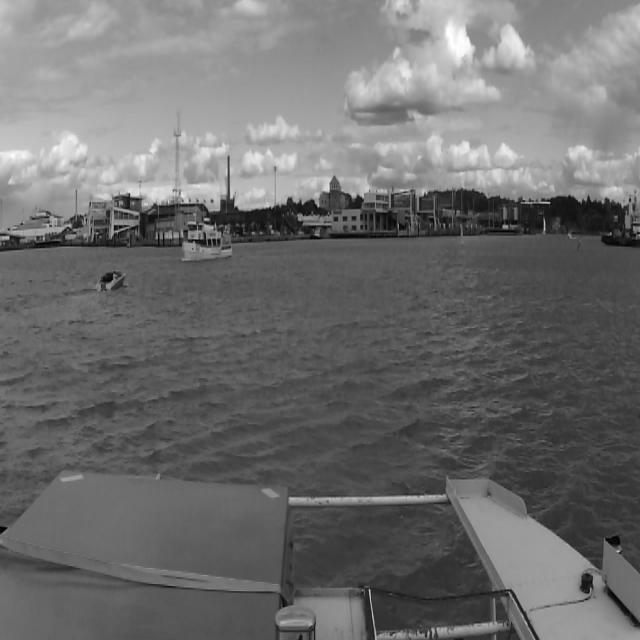buoy: (460, 224, 464, 243)
ship: (183, 216, 231, 260), (602, 196, 636, 248), (96, 267, 124, 289)
